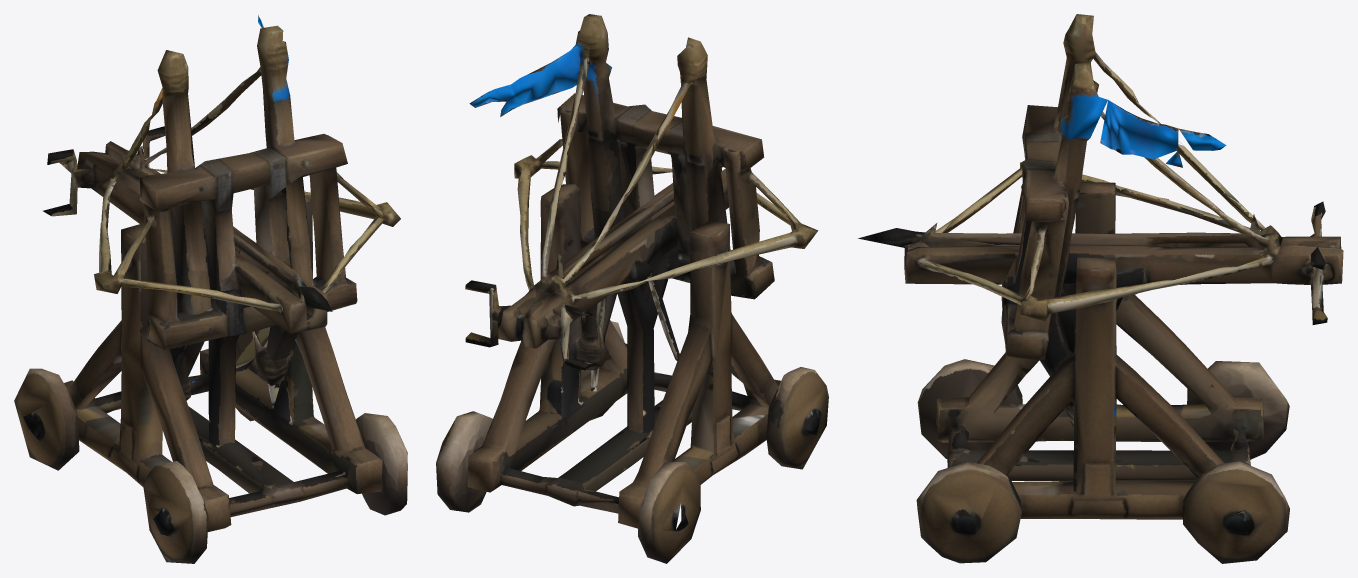
File: springald.glb
3 renders of one model, left to right at view 1: azimuth 30°, elevation 25°; view 2: azimuth 150°, elevation 25°; view 3: azimuth 270°, elevation 25°, orthographic. The views are drawn at different scales.
Visible parts, largest first — view 1: geometry_0; view 2: geometry_0; view 3: geometry_0.
Part boxes in pixels (x1,y1,x2,y2): geometry_0: (14,15,407,563); geometry_0: (436,14,828,563); geometry_0: (858,14,1343,563).
Bounding box in the file's own units: 0.6814 × 1 × 0.941.
Materials: 1 (1 with a texture image).
